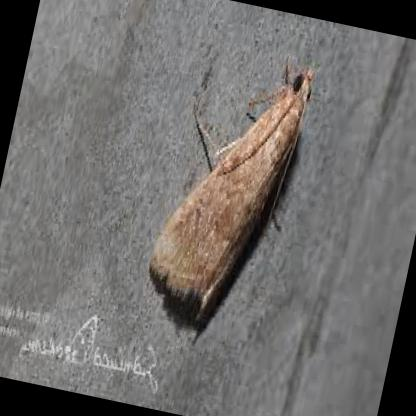Hellula undalis: (144, 45, 318, 341)
